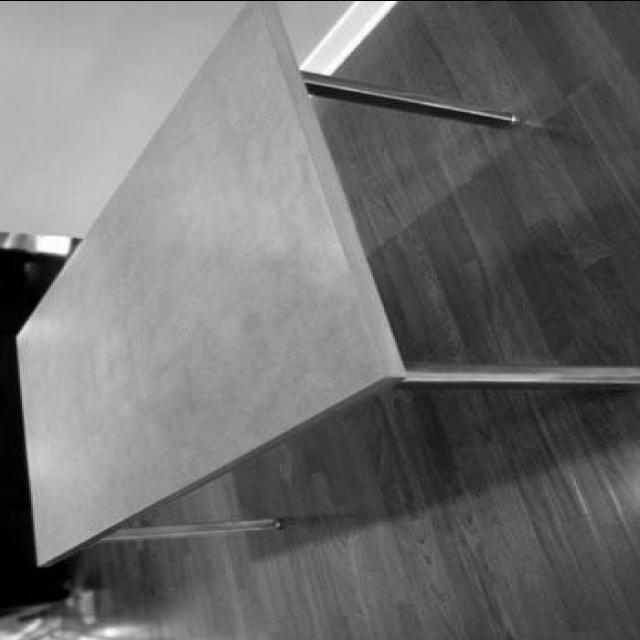table: (12, 0, 639, 573)
